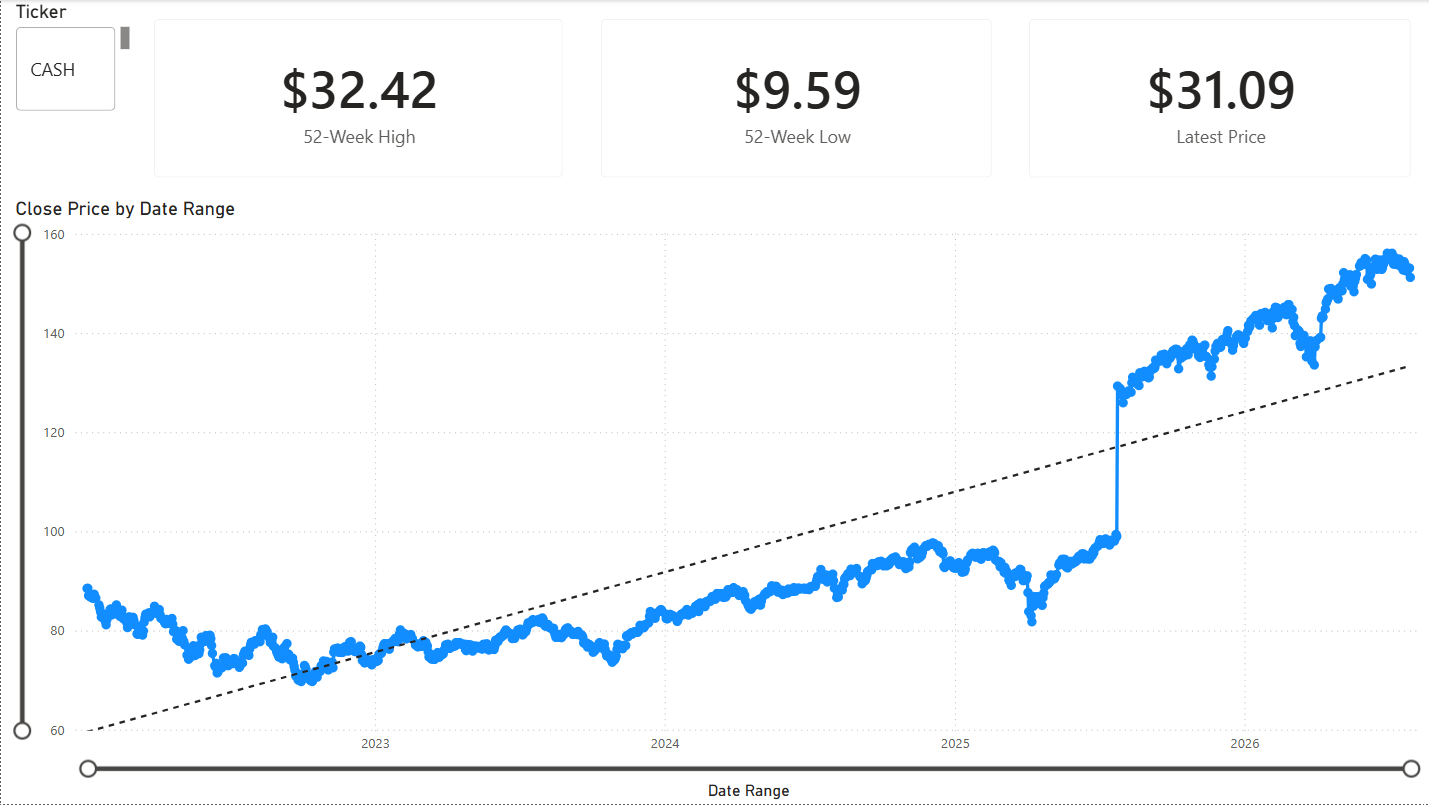

Layout of this report page (visuals, bound fields, positions):
{"tool":"powerbi","page":{"name":"Individual Asset Deep Dive","canvas":[1280,720],"ordinal":2},"visuals":[{"type":"advancedSlicerVisual","fields":{"Values":["Positions.Ticker"]},"box":[8,0,112,104],"z":0},{"type":"lineChart","title":"Close Price by Date Range","fields":{"Category":["Calendar.Date Range"],"Y":["Sum(Historical Prices.Close Price)"]},"box":[8,176,1272,544],"z":1},{"type":"cardVisual","fields":{"Data":["Positions.52-Week High"]},"box":[120,0,400,176],"z":2},{"type":"cardVisual","fields":{"Data":["Positions.52-Week Low"]},"box":[520,0,384,176],"z":3},{"type":"cardVisual","fields":{"Data":["Positions.Latest Close Price"]},"box":[904,0,376,176],"z":4}]}

Visuals, with their boxes in screenshot pixels (x1, y1, x2, y2), scaled from the page's 1280x720 canvas onto the 1429x805 screenshot:
advancedSlicerVisual - Positions.Ticker: 9 0 134 116
"Close Price by Date Range" lineChart: 9 197 1428 804
cardVisual - Positions.52-Week High: 134 0 581 197
cardVisual - Positions.52-Week Low: 581 0 1009 197
cardVisual - Positions.Latest Close Price: 1009 0 1428 197
